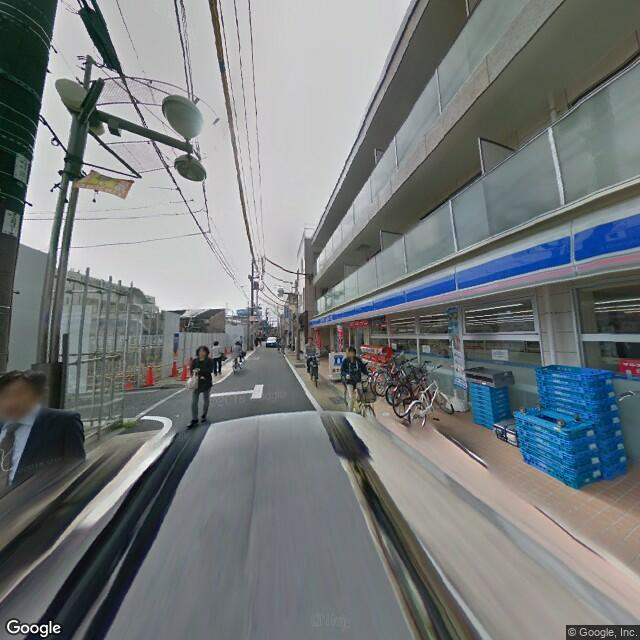lawson: (309, 193, 639, 329), (330, 351, 344, 369)
